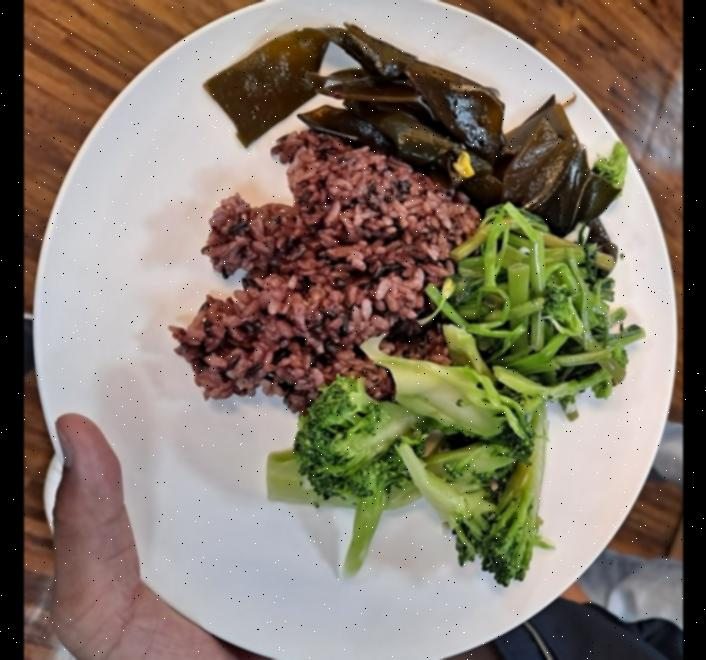big fried chicken leg: (27, 0, 677, 660)
braised fish: (186, 138, 476, 409)
braised fish fillet: (201, 21, 604, 235), (261, 343, 548, 591), (466, 210, 631, 394)
